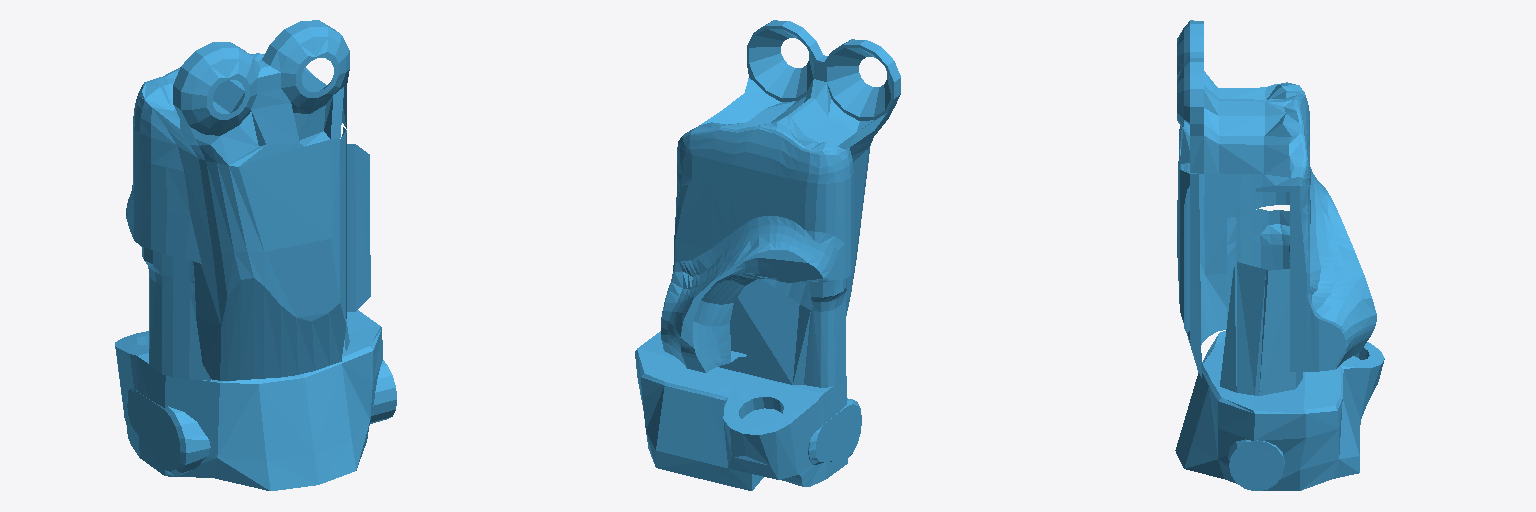
robot.urdf — svh:
<?xml version="1.0"?>
<robot name="svh">
  <link name="right_hand_base_link">
    <origin rpy="0 0 0" xyz="0 0 0"/>
    <visual>
      <origin rpy="0 0 0" xyz="0 0 -0.032"/>
      <geometry>
        <mesh filename="hand_meshes/visual/base10.obj"/>a
      </geometry>
    </visual>
    <collision>
      <origin rpy="0 0 0" xyz="0 0 -0.009"/>
      <geometry>
        <cylinder radius="0.045" length="0.045"/>
      </geometry>
    </collision>
  </link>
  <!-- LENGTH NOT FOUND IN DATASHEET! GUESSED!!! -->
  <link name="right_hand_e1">
    <visual>
      <origin rpy="0 0 0" xyz="0 0.01313 0"/>
      <geometry>
        <mesh filename="hand_meshes/visual/h10_new.obj" scale="1 1 1"/>
      </geometry>
    </visual>
    <collision>
      <origin rpy="0 0 0" xyz="0 0.01313 0.013"/>
      <geometry>
        <box size="0.05 0.05 0.026"/>
      </geometry>
    </collision>
    <collision>
      <origin rpy="0 0 0" xyz="-0.00573 0.0035 0.05747"/>
      <geometry>
        <box size="0.0584 0.038 0.0641"/>
      </geometry>
    </collision>
    <collision>
      <origin rpy="0 0 0" xyz="-0.01 0.0035 0.096"/>
      <geometry>
        <box size="0.042 0.038 0.015"/>
      </geometry>
    </collision>
  </link>
  <!-- LENGTH NOT FOUND IN DATASHEET! GUESSED!!! -->
  <link name="right_hand_e2">
    <visual>
      <origin xyz="-0.0007 0 -0.01002"/>
      <geometry>
        <mesh filename="hand_meshes/visual/h11.obj" scale="1 1 1"/>
      </geometry>
    </visual>
    <collision>
      <origin rpy="0 0 0" xyz="0.016 0 0.02"/>
      <geometry>
        <box size="0.0246 0.035 0.0564"/>
      </geometry>
    </collision>
    <collision>
      <origin rpy="0 0 0" xyz="0.0032 -0.0083 0.048"/>
      <geometry>
        <box size="0.012 0.018 0.021"/>
      </geometry>
    </collision>
  </link>
  <!-- THUMB LINKS -->
  <link name="right_hand_z">
    <visual>
      <origin xyz="0 0 0.02442"/>
      <geometry>
        <mesh filename="hand_meshes/visual/d10.obj" scale="1 1 1"/>
      </geometry>
    </visual>
    <collision>
      <origin xyz="0 0 0.02842"/>
      <geometry>
        <box size="0.024 0.0188 0.008"/>
      </geometry>
    </collision>
    <collision>
      <origin xyz="0.0125 0.0 0.04292"/>
      <geometry>
        <box size="0.006 0.024 0.033"/>
      </geometry>
    </collision>
    <collision>
      <origin xyz="-0.0125 0.0 0.04292"/>
      <geometry>
        <box size="0.006 0.024 0.033"/>
      </geometry>
    </collision>
  </link>
  <link name="right_hand_a">
    <visual>
      <geometry>
        <mesh filename="hand_meshes/visual/d11.obj" scale="1 1 1"/>
      </geometry>
    </visual>
    <collision>
      <geometry>
        <mesh filename="hand_meshes/collision/d11.obj" scale="1 1 1"/>
      </geometry>
    </collision>
  </link>
  <link name="right_hand_b">
    <visual>
      <geometry>
        <mesh filename="hand_meshes/visual/d12.obj" scale="1 1 1"/>
      </geometry>
    </visual>
    <collision>
      <geometry>
        <mesh filename="hand_meshes/collision/d12.obj" scale="1 1 1"/>
      </geometry>
    </collision>
  </link>
  <link name="right_hand_c">
    <inertial>
      <origin rpy="0 0 0" xyz="0.007 0.000 0.000"/>
      <mass value="0.02"/>
      <inertia ixx="1e-5" ixy="0.0" ixz="0.0" iyy="2e-5" iyz="0.0" izz="2e-5"/>
    </inertial>
    <visual>
      <geometry>
        <mesh filename="hand_meshes/visual/d13.obj" scale="1 1 1"/>
      </geometry>
    </visual>
    <collision>
      <geometry>
        <mesh filename="hand_meshes/collision/d13.obj" scale="1 1 1"/>
      </geometry>
    </collision>
  </link>
  <!-- INDEX FINGER LINKS -->
  <link name="right_hand_virtual_l">
    <visual>
      <origin xyz="0 0 0.01321"/>
      <geometry>
        <mesh filename="hand_meshes/visual/f10_f20.obj"/>
      </geometry>
    </visual>
    <collision>
      <origin xyz="0 0 0.00121"/>
      <geometry>
        <sphere radius="0.01"/>
      </geometry>
    </collision>
  </link>
  <link name="right_hand_l">
    <visual>
      <geometry>
        <mesh filename="hand_meshes/visual/f11.obj"/>
      </geometry>
    </visual>
    <collision>
      <geometry>
        <mesh filename="hand_meshes/collision/f11.obj" scale="1 1 1"/>
      </geometry>
    </collision>
  </link>
  <link name="right_hand_p">
    <inertial>
      <origin rpy="0 0 0" xyz="0.01 0.000 0.000"/>
      <mass value="0.024"/>
      <inertia ixx="9e-7" ixy="0.0" ixz="0.0" iyy="3e-6" iyz="0.0" izz="2e-6"/>
    </inertial>
    <visual>
      <geometry>
        <mesh filename="hand_meshes/visual/f12.obj"/>
      </geometry>
    </visual>
    <collision>
      <geometry>
        <mesh filename="hand_meshes/collision/f12.obj"/>
      </geometry>
    </collision>
  </link>
  <link name="right_hand_t">
    <inertial>
      <origin rpy="0 0 0" xyz="0.007 0.000 0.000"/>
      <mass value="0.02"/>
      <inertia ixx="1e-5" ixy="0.0" ixz="0.0" iyy="2e-5" iyz="0.0" izz="2e-5"/>
    </inertial>
    <visual>
      <geometry>
        <mesh filename="hand_meshes/visual/finger_tip.obj"/>
      </geometry>
    </visual>
    <collision>
      <geometry>
        <mesh filename="hand_meshes/collision/finger_tip.obj" scale="1 1 1"/>
      </geometry>
    </collision>
  </link>
  <!-- MIDDLE FINGER LINKS -->
  <link name="right_hand_virtual_k">
    <visual>
      <origin xyz="0 0 0.01321"/>
      <geometry>
        <mesh filename="hand_meshes/visual/f10_f20.obj"/>
      </geometry>
    </visual>
    <collision>
      <origin xyz="0 0 0.00321"/>
      <geometry>
        <sphere radius="0.01"/>
      </geometry>
    </collision>
  </link>
  <link name="right_hand_k">
    <visual>
      <geometry>
        <mesh filename="hand_meshes/visual/f21.obj"/>
      </geometry>
    </visual>
    <collision>
      <geometry>
        <mesh filename="hand_meshes/collision/f21.obj" scale="1 1 1"/>
      </geometry>
    </collision>
  </link>
  <link name="right_hand_o">
    <visual>
      <geometry>
        <mesh filename="hand_meshes/visual/f22_f32.obj"/>
      </geometry>
    </visual>
    <collision>
      <geometry>
        <mesh filename="hand_meshes/collision/f22_f32.obj" scale="1 1 1"/>
      </geometry>
    </collision>
  </link>
  <link name="right_hand_s">
    <inertial>
      <origin rpy="0 0 0" xyz="0.007 0.000 0.000"/>
      <mass value="0.02"/>
      <inertia ixx="1e-5" ixy="0.0" ixz="0.0" iyy="2e-5" iyz="0.0" izz="2e-5"/>
    </inertial>
    <visual>
      <geometry>
        <mesh filename="hand_meshes/visual/finger_tip.obj"/>
      </geometry>
    </visual>
    <collision>
      <geometry>
        <mesh filename="hand_meshes/collision/finger_tip.obj" scale="1 1 1"/>
      </geometry>
    </collision>
  </link>
  <!-- RING FINGER LINKS -->
  <link name="right_hand_virtual_j">
    <visual>
      <origin xyz="0 0 -0.01321"/>
      <geometry>
        <mesh filename="hand_meshes/visual/f30_f40.obj"/>
      </geometry>
    </visual>
    <collision>
      <origin xyz="0 0 -0.00321"/>
      <geometry>
        <sphere radius="0.01"/>
      </geometry>
    </collision>
  </link>
  <link name="right_hand_j">
    <visual>
      <geometry>
        <mesh filename="hand_meshes/visual/f31.obj"/>
      </geometry>
    </visual>
    <collision>
      <geometry>
        <mesh filename="hand_meshes/collision/f31.obj" scale="1 1 1"/>
      </geometry>
    </collision>
  </link>
  <link name="right_hand_n">
    <visual>
      <geometry>
        <mesh filename="hand_meshes/visual/f22_f32.obj"/>
      </geometry>
    </visual>
    <collision>
      <geometry>
        <mesh filename="hand_meshes/collision/f22_f32.obj" scale="1 1 1"/>
      </geometry>
    </collision>
  </link>
  <link name="right_hand_r">
    <inertial>
      <origin rpy="0 0 0" xyz="0.007 0.000 0.000"/>
      <mass value="0.02"/>
      <inertia ixx="1e-5" ixy="0.0" ixz="0.0" iyy="2e-5" iyz="0.0" izz="2e-5"/>
    </inertial>
    <visual>
      <geometry>
        <mesh filename="hand_meshes/visual/finger_tip.obj"/>
      </geometry>
    </visual>
    <collision>
      <geometry>
        <mesh filename="hand_meshes/collision/finger_tip.obj" scale="1 1 1"/>
      </geometry>
    </collision>
  </link>
  <!-- LITTLE FINGER LINKS -->
  <link name="right_hand_virtual_i">
    <visual>
      <origin xyz="0 0 -0.01321"/>
      <geometry>
        <mesh filename="hand_meshes/visual/f30_f40.obj"/>
      </geometry>
    </visual>
    <collision>
      <origin xyz="0 0 -0.00321"/>
      <geometry>
        <sphere radius="0.01"/>
      </geometry>
    </collision>
  </link>
  <link name="right_hand_i">
    <visual>
      <geometry>
        <mesh filename="hand_meshes/visual/f41.obj"/>
      </geometry>
    </visual>
    <collision>
      <geometry>
        <mesh filename="hand_meshes/collision/f41.obj"/>
      </geometry>
    </collision>
  </link>
  <link name="right_hand_m">
    <inertial>
      <origin rpy="0 0 0" xyz="0.007 0.000 0.000"/>
      <mass value="0.02"/>
      <inertia ixx="8e-7" ixy="0.0" ixz="0.0" iyy="2e-6" iyz="0.0" izz="2e-6"/>
    </inertial>
    <visual>
      <geometry>
        <mesh filename="hand_meshes/visual/f42.obj"/>
      </geometry>
    </visual>
    <collision>
      <geometry>
        <mesh filename="hand_meshes/collision/f42.obj"/>
      </geometry>
    </collision>
  </link>
  <link name="right_hand_q">
    <inertial>
      <origin rpy="0 0 0" xyz="0.007 0.000 0.000"/>
      <mass value="0.02"/>
      <inertia ixx="1e-5" ixy="0.0" ixz="0.0" iyy="2e-5" iyz="0.0" izz="2e-5"/>
    </inertial>
    <visual>
      <geometry>
        <mesh filename="hand_meshes/visual/finger_tip.obj"/>
      </geometry>
    </visual>
    <collision>
      <geometry>
        <mesh filename="hand_meshes/collision/finger_tip.obj"/>
      </geometry>
    </collision>
  </link>
  <joint name="right_hand_Thumb_Flexion" type="revolute">
    <parent link="right_hand_z"/>
    <child link="right_hand_a"/>
    <limit effort="1000.0" lower="0.0" upper="0.9704" velocity="1"/>
    <origin rpy="1.57079 -0.6004 1.57079" xyz="0 0 0.04596"/>
    <axis xyz="0 0 1"/>
  </joint>
  <!-- BASE_LINE JOINTS -->
  <joint name="right_hand_Thumb_Opposition" type="revolute">
    <parent link="right_hand_e1"/>
    <child link="right_hand_z"/>
    <limit effort="1000.0" lower="0.0" upper="0.9879" velocity="1"/>
    <origin rpy="0 0.2618 1.571" xyz="-0.0169 0.02626 0"/>
    <axis xyz="0 0 -1"/>
  </joint>
  <joint name="right_hand_f4" type="fixed">
    <parent link="right_hand_base_link"/>
    <child link="right_hand_e1"/>
    <origin rpy="0 0 0" xyz="0 -0.01313 0"/>
  </joint>
  <joint name="right_hand_j5" type="revolute">
    <parent link="right_hand_e1"/>
    <child link="right_hand_e2"/>
    <limit effort="1000.0" lower="0.0" upper="0.98786" velocity="1"/>
    <origin rpy="0 0 0" xyz="0.0184 0.006 0.0375"/>
    <axis xyz="0 0 1"/>
    <mimic joint="right_hand_Thumb_Opposition" multiplier="1" offset="0"/>
  </joint>
  <!-- THUMB JOINTS -->
  <joint name="right_hand_j3" type="revolute">
    <parent link="right_hand_a"/>
    <child link="right_hand_b"/>
    <limit effort="1000.0" lower="0.0" upper="0.98506" velocity="1"/>
    <origin rpy="0 0 0" xyz="0.0485 0 0"/>
    <axis xyz="0 0 1"/>
    <mimic joint="right_hand_Thumb_Flexion" multiplier="1.01511" offset="0"/>
  </joint>
  <joint name="right_hand_j4" type="revolute">
    <parent link="right_hand_b"/>
    <child link="right_hand_c"/>
    <limit effort="1000.0" lower="0.0" upper="1.406" velocity="1"/>
    <origin rpy="0 0 0" xyz="0.030 0 0"/>
    <axis xyz="0 0 1"/>
    <mimic joint="right_hand_Thumb_Flexion" multiplier="1.44889" offset="0"/>
  </joint>
  <!-- INDEX FINGER JOINTS -->
  <joint name="right_hand_Index_Finger_Distal" type="revolute">
    <parent link="right_hand_l"/>
    <child link="right_hand_p"/>
    <limit effort="1000.0" lower="0" upper="1.334" velocity="1"/>
    <origin rpy="0 0 0" xyz="0.04804 0 0"/>
    <axis xyz="0 0 1"/>
  </joint>
  <joint name="right_hand_Index_Finger_Proximal" type="revolute">
    <parent link="right_hand_virtual_l"/>
    <child link="right_hand_l"/>
    <limit effort="1000.0" lower="0.0" upper="0.79849" velocity="1"/>
    <origin rpy="-1.5707 0 0" xyz="0 0 0"/>
    <axis xyz="0 0 1"/>
  </joint>
  <!-- JOINT Finger_Spread in BASE_LINE section for better UX -->
  <joint name="right_hand_j14" type="revolute">
    <parent link="right_hand_p"/>
    <child link="right_hand_t"/>
    <limit effort="1000.0" lower="0" upper="1.394" velocity="1"/>
    <origin rpy="0 0 0" xyz="0.026 0 0"/>
    <axis xyz="0 0 1"/>
    <mimic joint="right_hand_Index_Finger_Distal" multiplier="1.0450" offset="0"/>
  </joint>
  <!-- MIDDLE FINGER JOINTS -->
  <joint name="right_hand_Middle_Finger_Proximal" type="revolute">
    <parent link="right_hand_virtual_k"/>
    <child link="right_hand_k"/>
    <limit effort="1000.0" lower="0.0" upper="0.79849" velocity="1"/>
    <origin rpy="-1.5707 0 0" xyz="0 0 0"/>
    <axis xyz="0 0 1"/>
  </joint>
  <joint name="right_hand_Middle_Finger_Distal" type="revolute">
    <parent link="right_hand_k"/>
    <child link="right_hand_o"/>
    <limit effort="1000.0" lower="0" upper="1.334" velocity="1"/>
    <origin rpy="0 0 0" xyz="0.05004 0 0"/>
    <axis xyz="0 0 1"/>
  </joint>
  <joint name="right_hand_j15" type="revolute">
    <parent link="right_hand_o"/>
    <child link="right_hand_s"/>
    <limit effort="1000.0" lower="0" upper="1.334" velocity="1"/>
    <origin rpy="0 0 0" xyz="0.032 0 0"/>
    <axis xyz="0 0 1"/>
    <mimic joint="right_hand_Middle_Finger_Distal" multiplier="1.0454" offset="0"/>
  </joint>
  <!-- RING FINGER JOINTS -->
  <joint name="right_hand_Ring_Finger" type="revolute">
    <parent link="right_hand_virtual_j"/>
    <child link="right_hand_j"/>
    <limit effort="1000.0" lower="0.0" upper="0.98175" velocity="1"/>
    <origin rpy="1.5707 0 0" xyz="0 0 0"/>
    <axis xyz="0 0 1"/>
  </joint>
  <joint name="right_hand_j12" type="revolute">
    <parent link="right_hand_j"/>
    <child link="right_hand_n"/>
    <limit effort="1000.0" lower="0" upper="1.334" velocity="1"/>
    <origin rpy="0 0 0" xyz="0.05004 0 0"/>
    <axis xyz="0 0 1"/>
    <mimic joint="right_hand_Ring_Finger" multiplier="1.3588" offset="0"/>
  </joint>
  <joint name="right_hand_j16" type="revolute">
    <parent link="right_hand_n"/>
    <child link="right_hand_r"/>
    <limit effort="1000.0" lower="0" upper="1.395" velocity="1"/>
    <origin rpy="0 0 0" xyz="0.032 0 0"/>
    <axis xyz="0 0 1"/>
    <mimic joint="right_hand_Ring_Finger" multiplier="1.42093" offset="0"/>
  </joint>
  <!-- PINKY JOINTS -->
  <joint name="right_hand_Pinky" type="revolute">
    <parent link="right_hand_virtual_i"/>
    <child link="right_hand_i"/>
    <limit effort="1000.0" lower="0.0" upper="0.98175" velocity="1"/>
    <origin rpy="1.5707 0 0" xyz="0 0 0"/>
    <axis xyz="0 0 1"/>
  </joint>
  <joint name="right_hand_j13" type="revolute">
    <parent link="right_hand_i"/>
    <child link="right_hand_m"/>
    <limit effort="1000.0" lower="0" upper="1.334" velocity="1"/>
    <origin rpy="0 0 0" xyz="0.04454 0 0"/>
    <axis xyz="0 0 1"/>
    <mimic joint="right_hand_Pinky" multiplier="1.35880" offset="0"/>
  </joint>
  <joint name="right_hand_j17" type="revolute">
    <parent link="right_hand_m"/>
    <child link="right_hand_q"/>
    <limit effort="1000.0" lower="0" upper="1.3971" velocity="1"/>
    <origin rpy="0 0 0" xyz="0.022 0 0"/>
    <axis xyz="0 0 1"/>
    <mimic joint="right_hand_Pinky" multiplier="1.42307" offset="0"/>
  </joint>
  <joint name="right_hand_index_spread" type="revolute">
    <parent link="right_hand_e1"/>
    <child link="right_hand_virtual_l"/>
    <limit effort="1000.0" lower="0.0" upper="0.28833" velocity="1"/>
    <origin rpy="0 -1.5707 1.5707" xyz="-0.025 0 0.110"/>
    <axis xyz="0 0 1"/>
    <mimic joint="right_hand_Finger_Spread" multiplier="0.5" offset="0"/>
  </joint>
  <joint name="right_hand_middle_spread_dummy" type="fixed">
    <parent link="right_hand_e1"/>
    <child link="right_hand_virtual_k"/>
    <origin rpy="0 -1.5707 1.5707" xyz="0 0 0.110"/>
  </joint>
  <joint name="right_hand_ring_spread" type="revolute">
    <parent link="right_hand_e2"/>
    <child link="right_hand_virtual_j"/>
    <limit effort="1000.0" lower="0.0" upper="0.28833" velocity="1"/>
    <origin rpy="-1.5707 -1.5707 0" xyz="0.003855 -0.006 0.0655"/>
    <axis xyz="0 0 1"/>
    <mimic joint="right_hand_Finger_Spread" multiplier="0.5" offset="0"/>
  </joint>
  <joint name="right_hand_Finger_Spread" type="revolute">
    <parent link="right_hand_e2"/>
    <child link="right_hand_virtual_i"/>
    <limit effort="1000.0" lower="0.0" upper="0.5829" velocity="1"/>
    <origin rpy="-1.5707 -1.5707 0" xyz="0.025355 -0.006 0.056"/>
    <axis xyz="0 0 1"/>
  </joint>

  <link name="thtip"/>
  <link name="fftip"/>
  <link name="mftip"/>
  <link name="rftip"/>
  <link name="lftip"/>
  <joint name="thtip_joint" type="fixed">
    <parent link="right_hand_c"/>
    <child link="thtip"/>
    <origin rpy="0.00000 -0.00000 0.00000" xyz="0.0275 0.000 0.000"/>
  </joint>
  <joint name="fftip_joint" type="fixed">
    <parent link="right_hand_t"/>
    <child link="fftip"/>
    <origin rpy="0.00000 -0.00000 0.00000" xyz="0.014 0.000 0.000"/>
  </joint>
  <joint name="mftip_joint" type="fixed">
    <parent link="right_hand_s"/>
    <child link="mftip"/>
    <origin rpy="0.00000 -0.00000 0.00000" xyz="0.014 0.000 0.000"/>
  </joint>
  <joint name="rftip_joint" type="fixed">
    <parent link="right_hand_r"/>
    <child link="rftip"/>
    <origin rpy="0.00000 -0.00000 0.00000" xyz="0.014 0.000 0.000"/>
  </joint>
  <joint name="lftip_joint" type="fixed">
    <parent link="right_hand_q"/>
    <child link="lftip"/>
    <origin rpy="0.00000 -0.00000 0.00000" xyz="0.014 0.000 0.000"/>
  </joint>
</robot>

--- Facts derived from the render (not from the file) ---
The picture shows the robot from 3 angles, left to right: view 1: azimuth 30°, elevation 25°; view 2: azimuth 150°, elevation 25°; view 3: azimuth 270°, elevation 25°; orthographic projection.
Robot: svh — 28 links, 27 joints (20 revolute, 7 fixed); root link right_hand_base_link; default pose: all joints at 0.
Visible links, largest first — view 1: right_hand_e1; view 2: right_hand_e1; view 3: right_hand_e1.
Link boxes in pixels (x1,y1,x2,y2): right_hand_e1: (115,20,396,490); right_hand_e1: (635,20,900,490); right_hand_e1: (1175,20,1384,490).
Size in the robot's own frame: 0.0671 by 0.0592 by 0.1215 metres.
1 mesh visuals loaded from 17 distinct referenced files (1 OBJ); not drawn: 22 (reference not matched to a file when rendering).